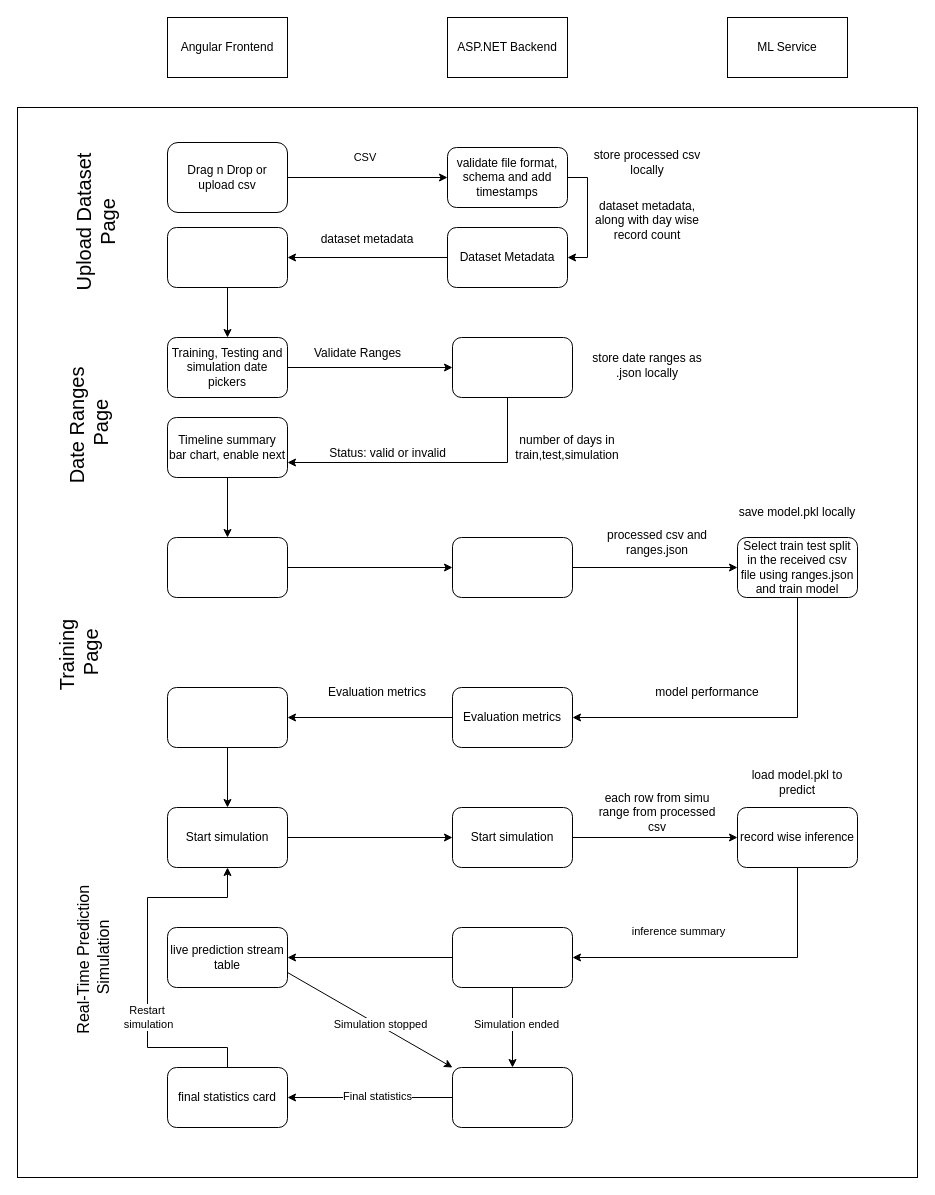
The diagram is 935 pixels wide and 1195 high, and some of its shapes have lost their labels. Each missing label, with the box of its shape:
Calculate simulation summary: (452, 1066, 572, 1128)
Display dataset metadata, enable next: (166, 226, 288, 288)
metrics stats and model performance chart: (166, 686, 288, 748)
row wise summary: (452, 926, 572, 988)
Train model: (166, 536, 288, 598)
Trigger train model: (452, 536, 572, 598)
Validate date range based on stored dataset metadata: (452, 336, 572, 398)
